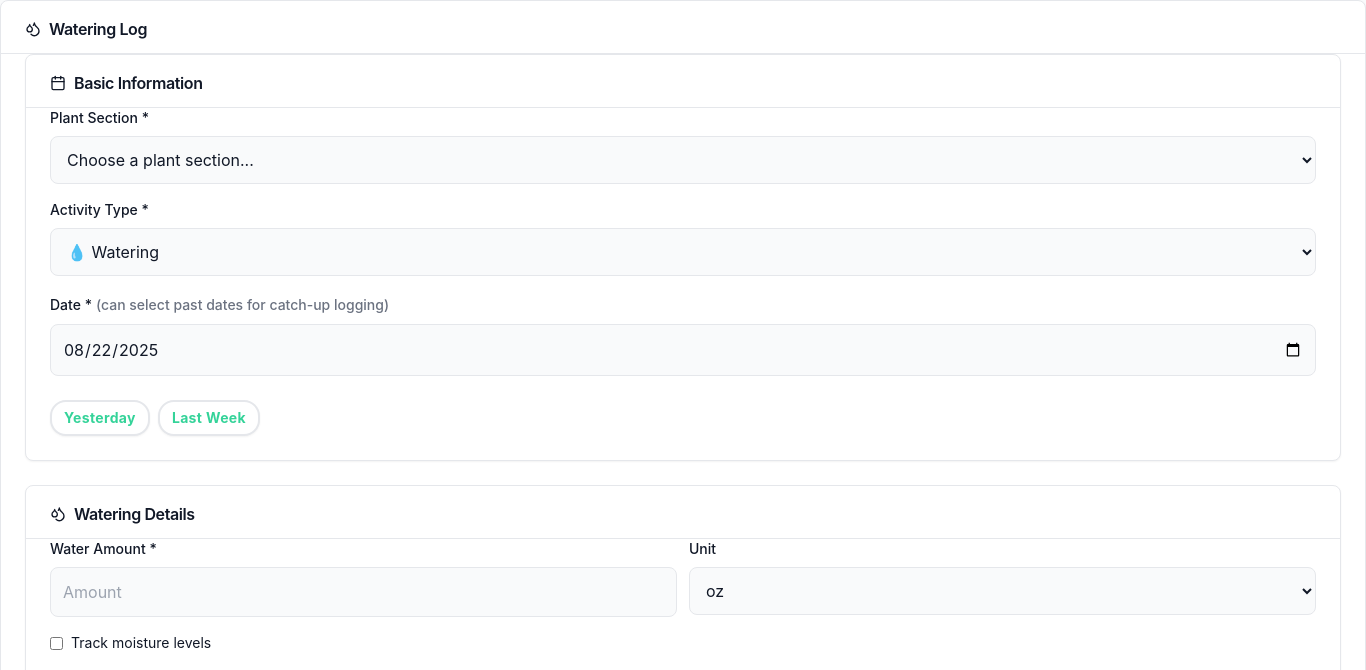
Test: Albion Strawberries Fertilization Tests › Vegetative Stage (Days 28-56) › should show recommended dilution for vegetative stage
This screenshot has width=1366, height=670.
Step 1. Select "Albion Strawberries (1 plant) - Container A" in the dropdown labelled "Plant Section *" → coordinates (683, 160), box 50,136 -> 1316,184
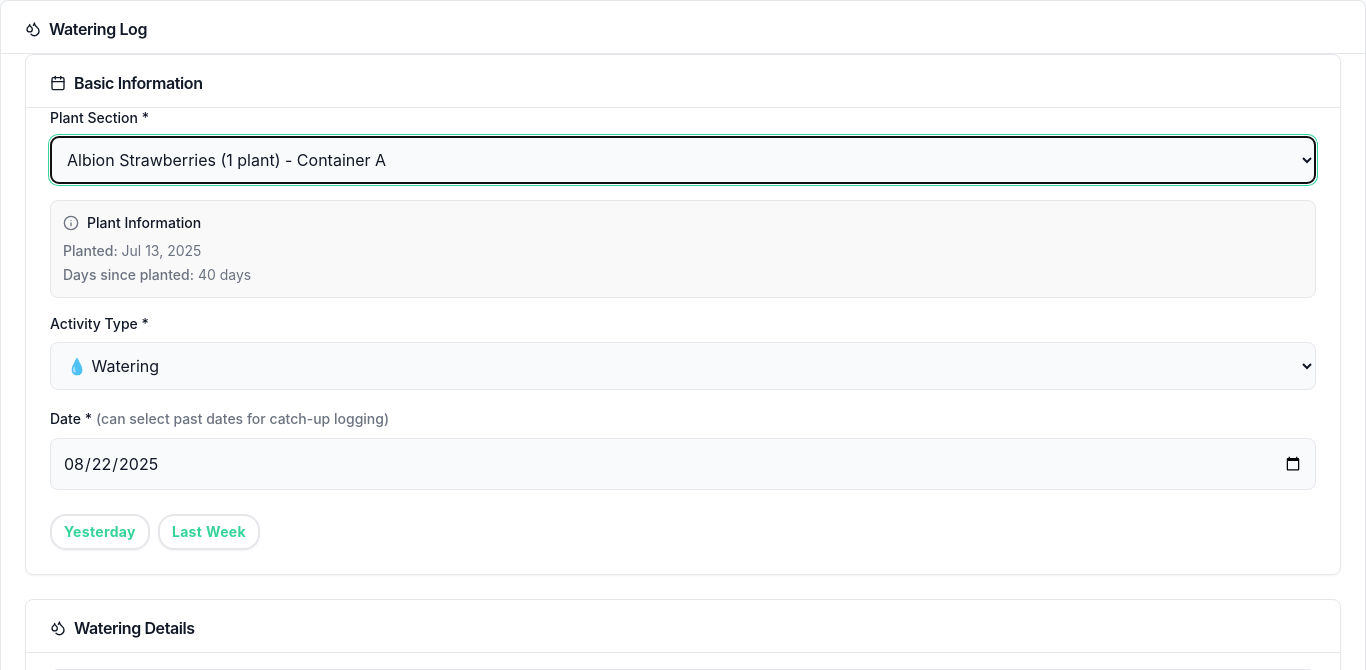
Step 2. Select "🌱 Fertilizing" in the dropdown labelled "Activity Type *" → coordinates (683, 366), box 50,342 -> 1316,390
(page scrolled)
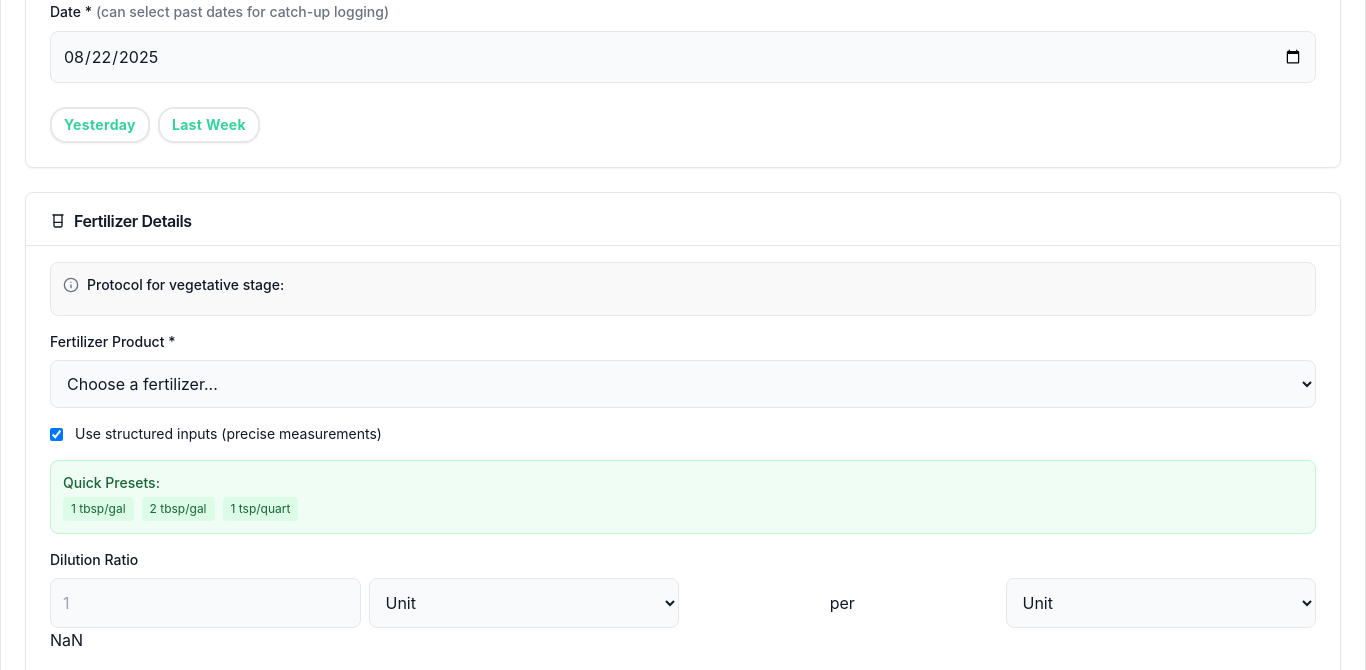
Step 3. Select "Neptune's Harvest Fish + Seaweed (Soil Drench)" in the dropdown labelled "Fertilizer Product *" → coordinates (683, 384), box 50,360 -> 1316,408
(page scrolled)
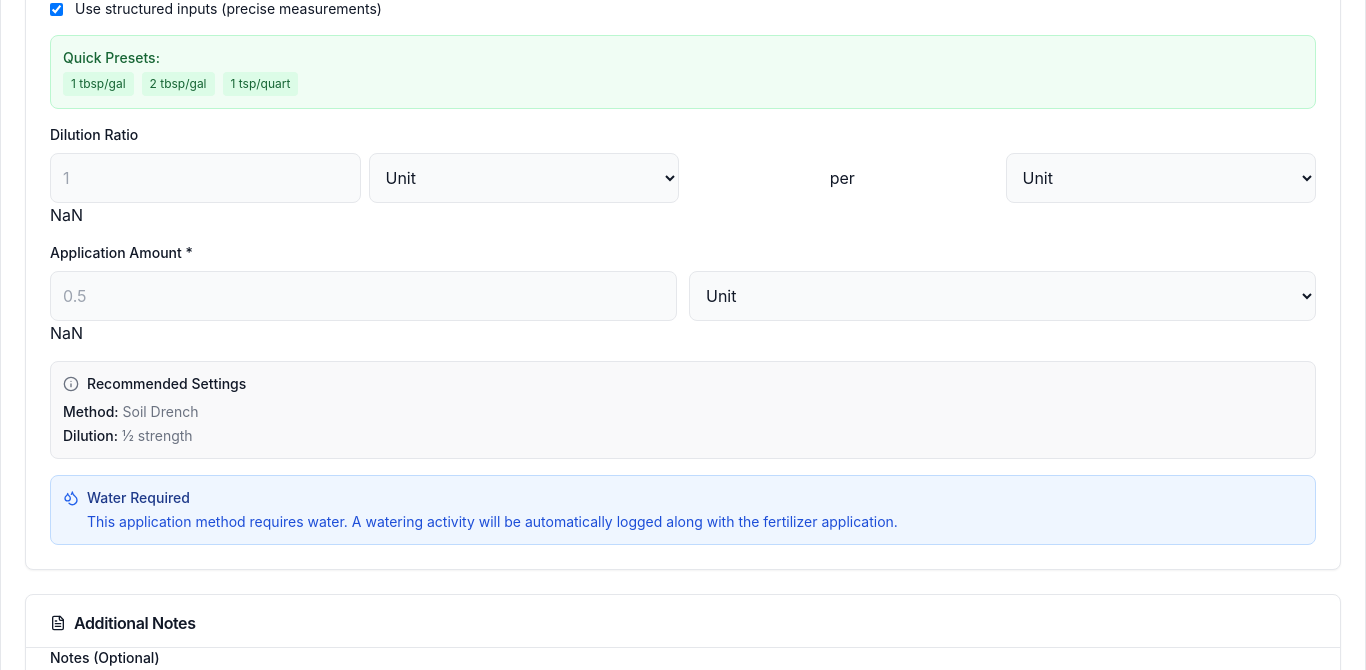
Check: the text "Recommended Settings" is shown, box 87,374 -> 246,394
